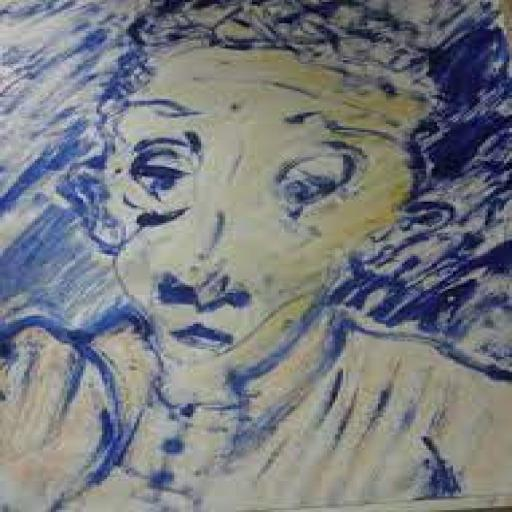person: (67, 1, 451, 416)
